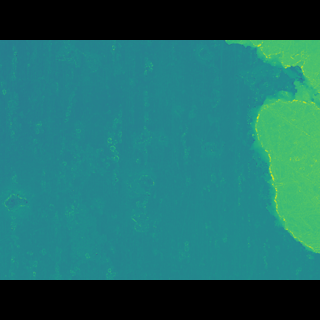Loch: (243, 71, 320, 235)
